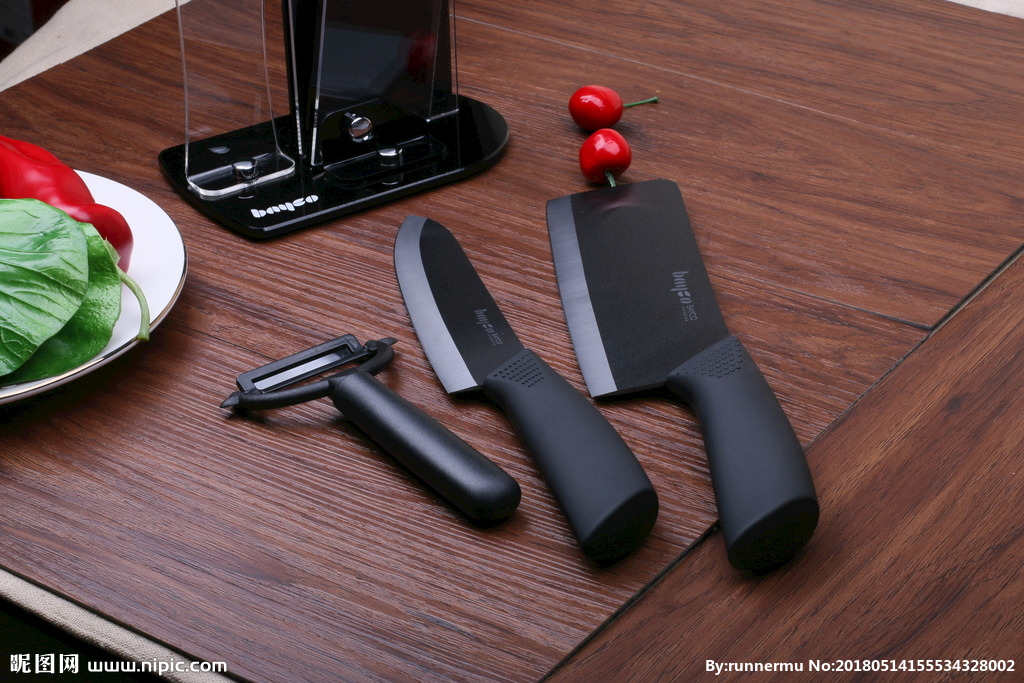knief: (529, 186, 860, 564)
